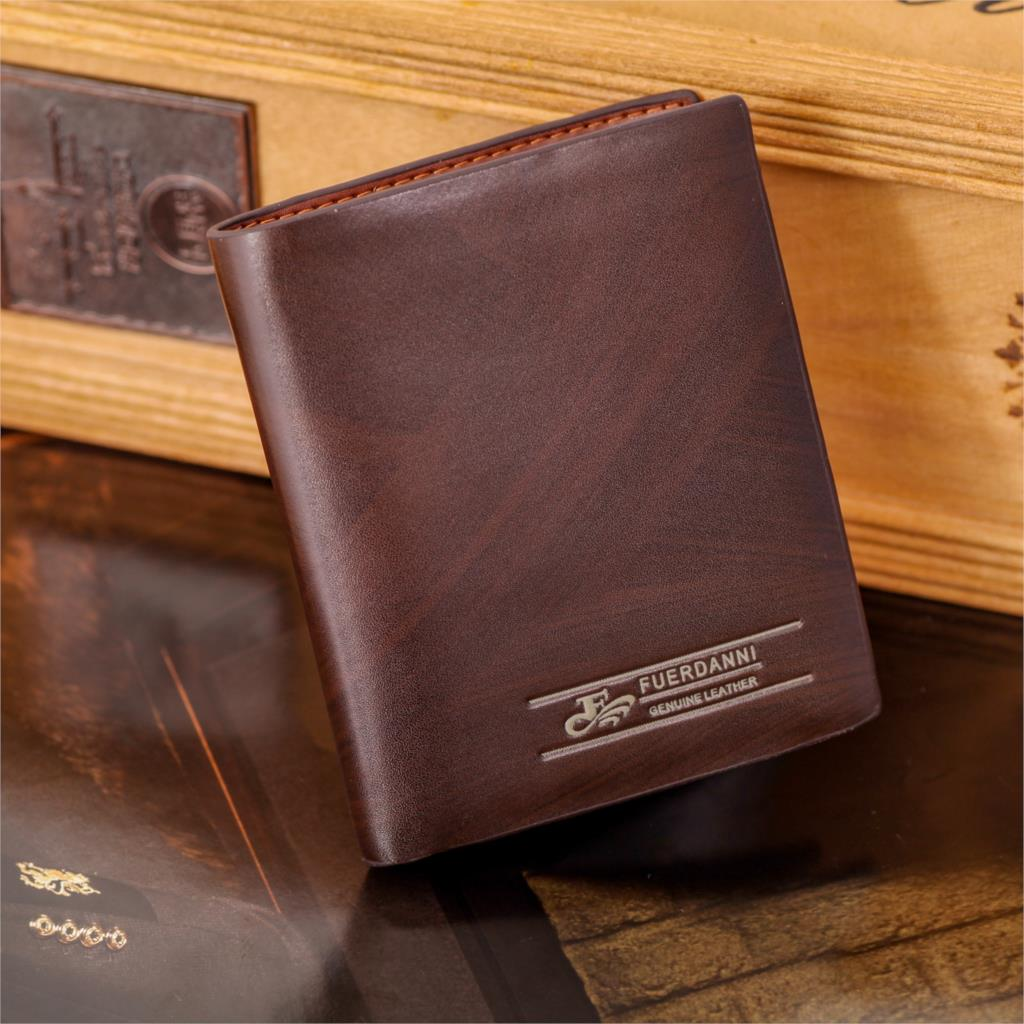monedero: (198, 85, 888, 870)
